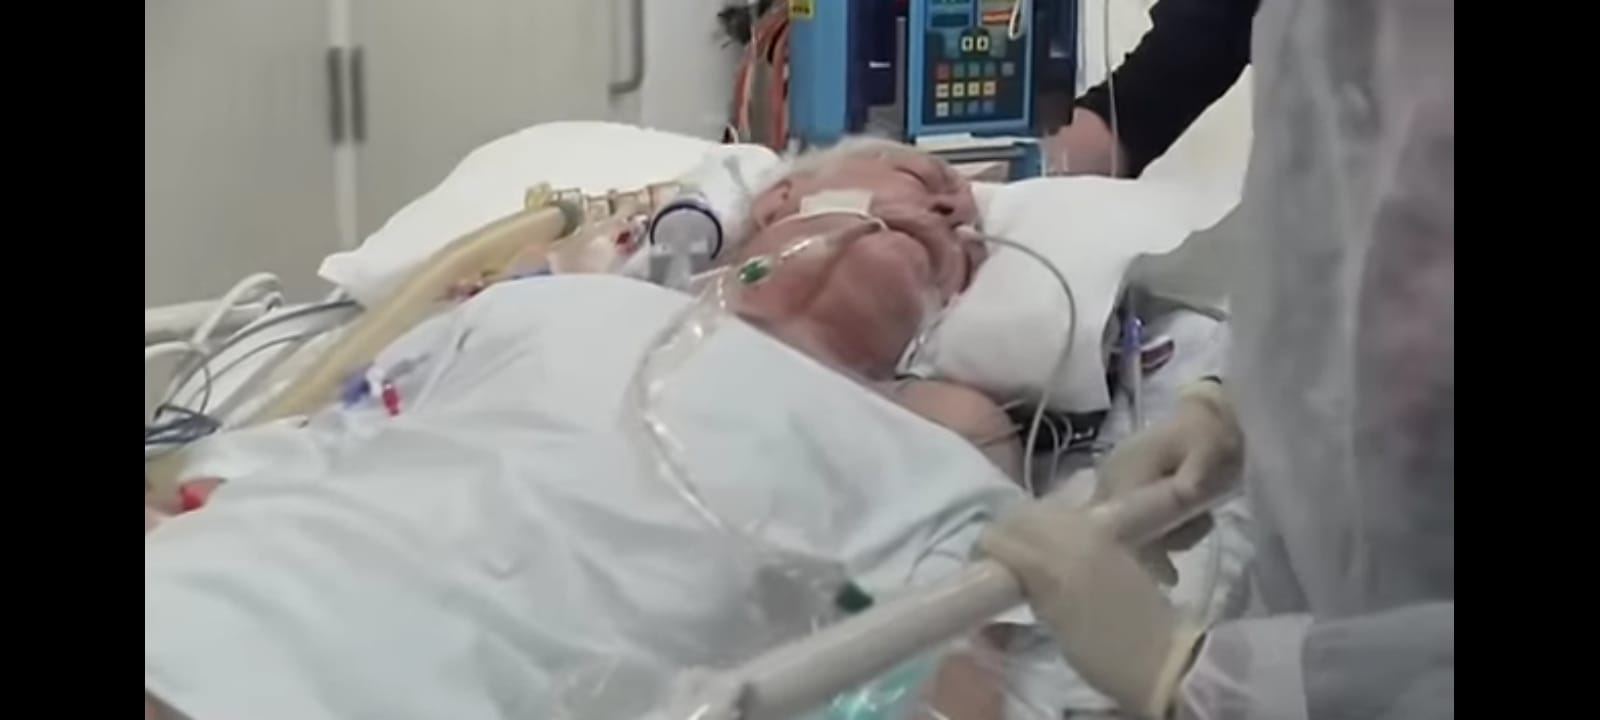patient: (321, 135, 1034, 600)
